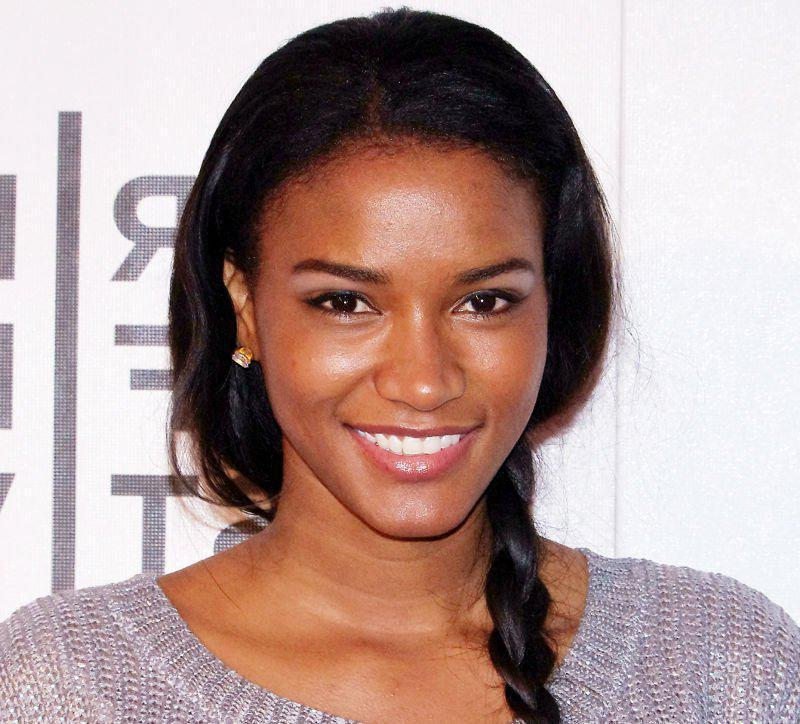Sober: (287, 182, 523, 512)
